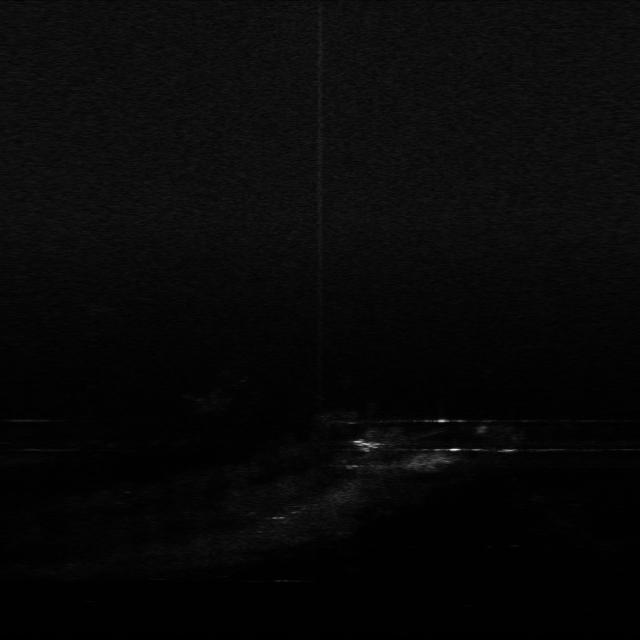rov: (351, 437, 388, 455)
